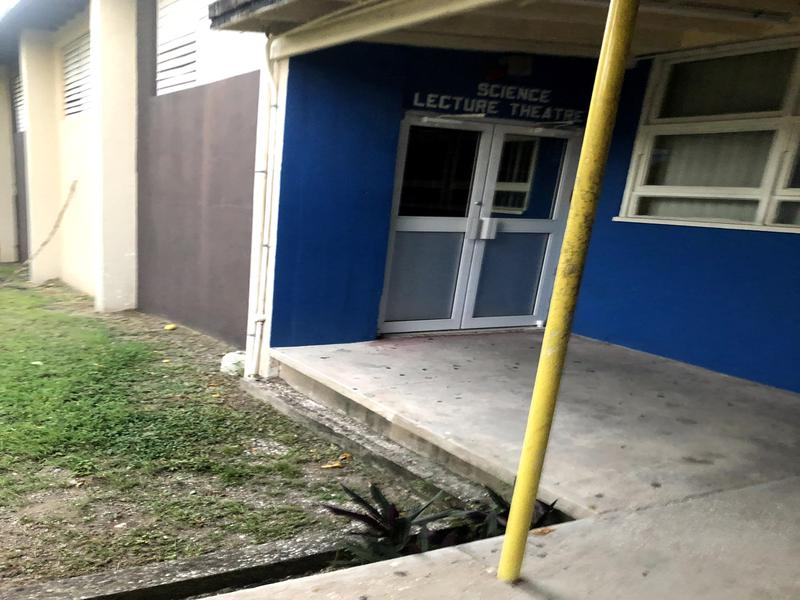18.0051836_-76.7497262_pclt1: (377, 70, 583, 367)
